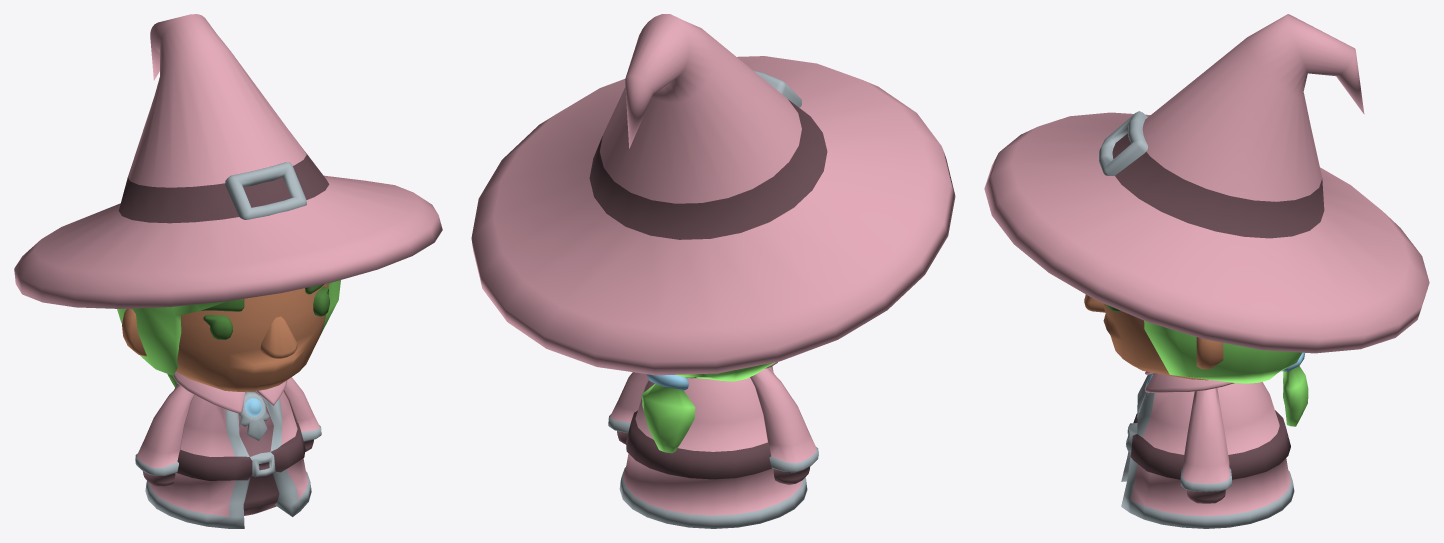
The model's file is mage21.gltf.
The picture shows the model from 3 angles, left to right: view 1: azimuth 30°, elevation 25°; view 2: azimuth 150°, elevation 25°; view 3: azimuth 270°, elevation 25°; orthographic projection. The views are drawn at different scales.
Parts seen in each view (by area): view 1: character_mageHat, character_mageBody, character_mageHead, character_mageArmRight, character_mageHair, character_mageArnLeft; view 2: character_mageHat, character_mageBody, character_mageArmRight, character_mageHair, character_mageArnLeft; view 3: character_mageHat, character_mageBody, character_mageHair, character_mageArnLeft, character_mageHead.
Part boxes in pixels (box(x1,y1,x2,y2)): character_mageHat: box(14, 14, 442, 308); character_mageBody: box(145, 372, 311, 528); character_mageHead: box(122, 283, 329, 391); character_mageArmRight: box(135, 384, 194, 487); character_mageHair: box(117, 280, 340, 387); character_mageArnLeft: box(284, 377, 321, 451); character_mageHat: box(471, 14, 955, 375); character_mageBody: box(619, 362, 807, 528); character_mageArmRight: box(750, 368, 818, 484); character_mageHair: box(641, 362, 774, 453); character_mageArnLeft: box(608, 372, 648, 444); character_mageHat: box(984, 14, 1429, 353); character_mageBody: box(1121, 371, 1294, 528); character_mageHair: box(1144, 320, 1308, 426); character_mageArnLeft: box(1180, 388, 1231, 503); character_mageHead: box(1084, 294, 1223, 380).
Bounding box in the file's own units: 2.1 × 2.44 × 2.05.
